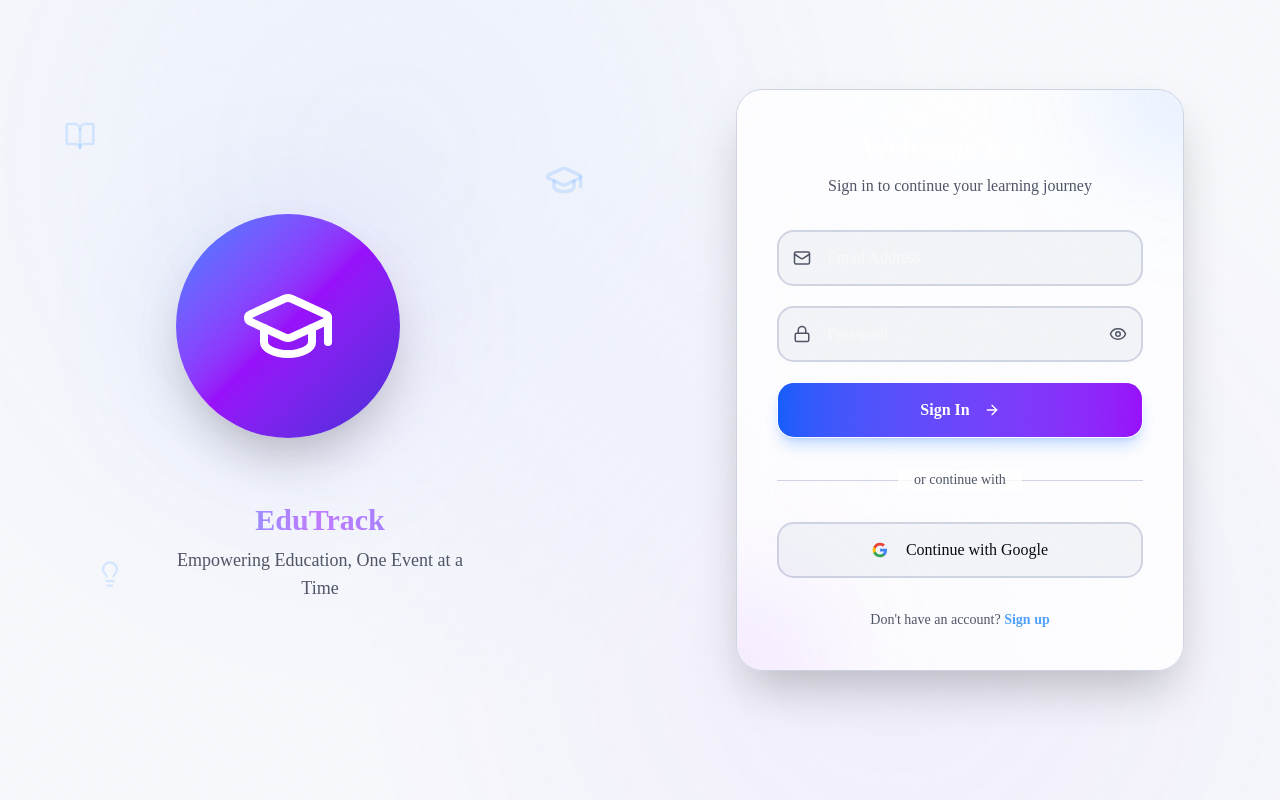
Test: LoginPage › register mode shows name field
Step 1. Click the button "Sign up" → (1027, 620), box [1004,610,1050,630]
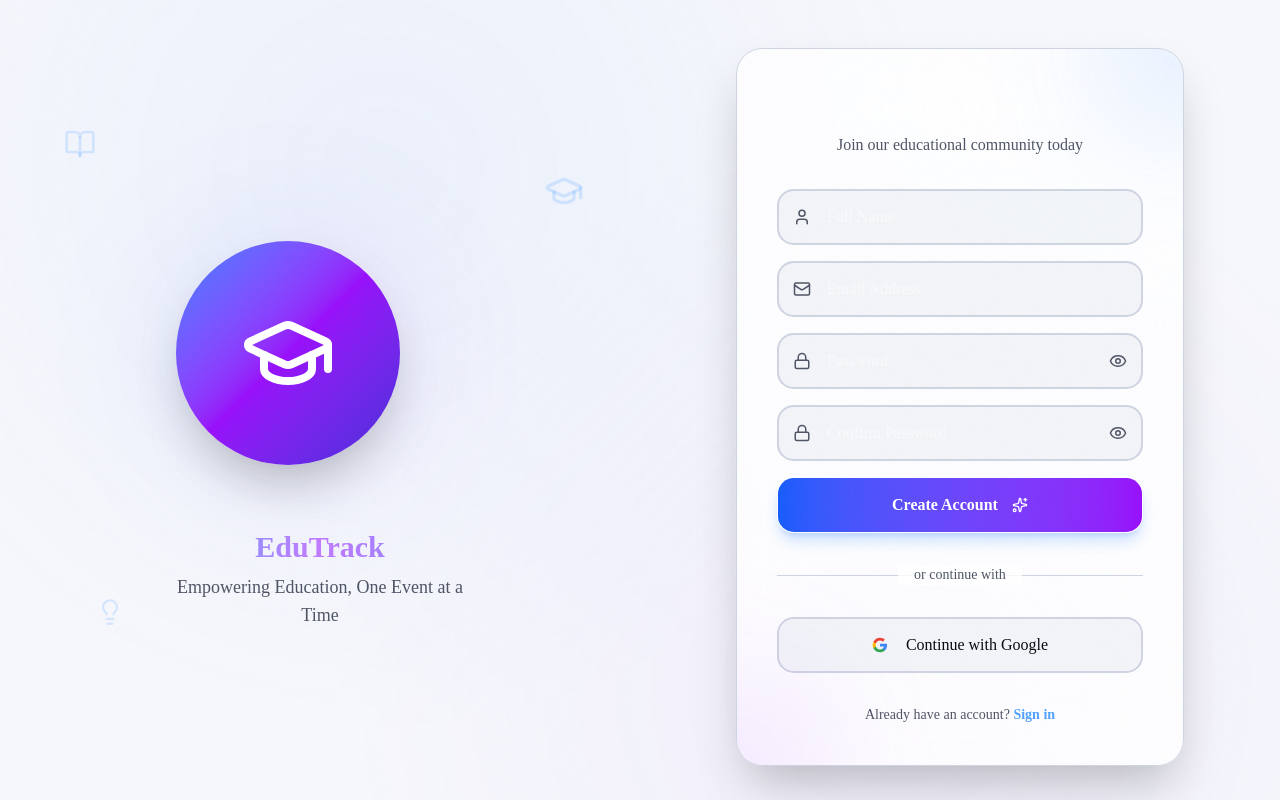
Expected: the field with id "register-name" is shown, [777,189,1143,245]
